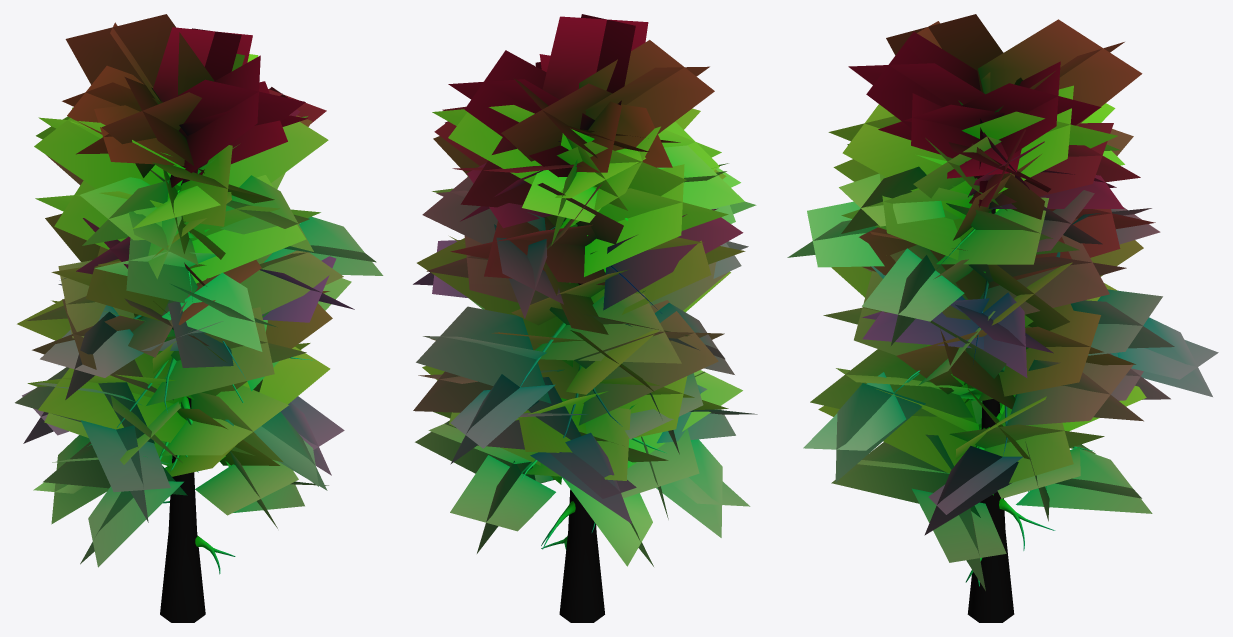
Rendered from M_Pine_1_14.fbx.
3 views of the same model, side by side, from view 1: azimuth 30°, elevation 25°; view 2: azimuth 150°, elevation 25°; view 3: azimuth 270°, elevation 25° (orthographic).
Parts seen in each view (by area): view 1: Tree_14; view 2: Tree_14; view 3: Tree_14.
Part boxes in pixels (x1,y1,x2,y2): Tree_14: (15, 14, 383, 622); Tree_14: (413, 14, 757, 622); Tree_14: (787, 14, 1218, 622).
Size of the model in its own units: 518 by 939 by 638.
